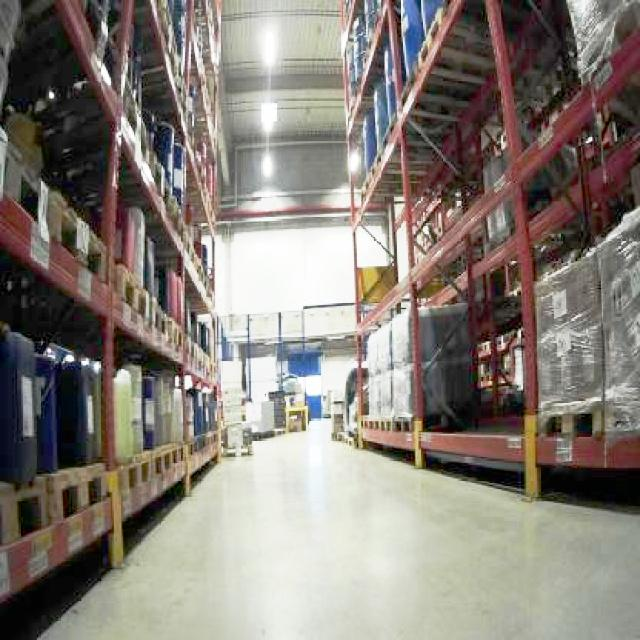ground: (0, 415, 638, 638)
pallet: (338, 0, 638, 500)
